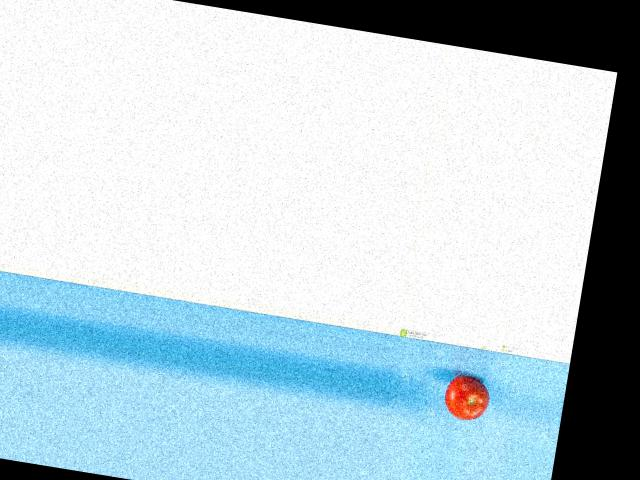tomato: (442, 373, 493, 422)
